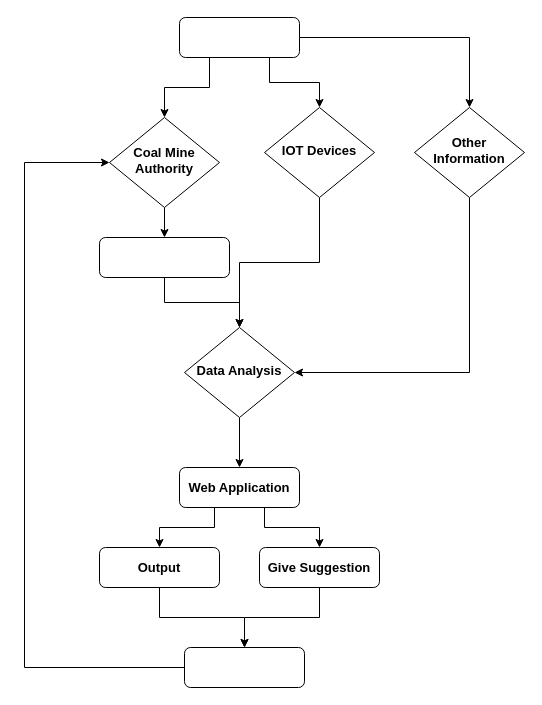
This 542x705 diagram has some shape labels left out. The shapes that lost their labels are listed below. From the top down, each one's centre as x and y in pixels, then its label:
At point (239, 37): "Coal Mine".
At point (164, 257): "Get Ratting".
At point (244, 667): "Survay Authority".
